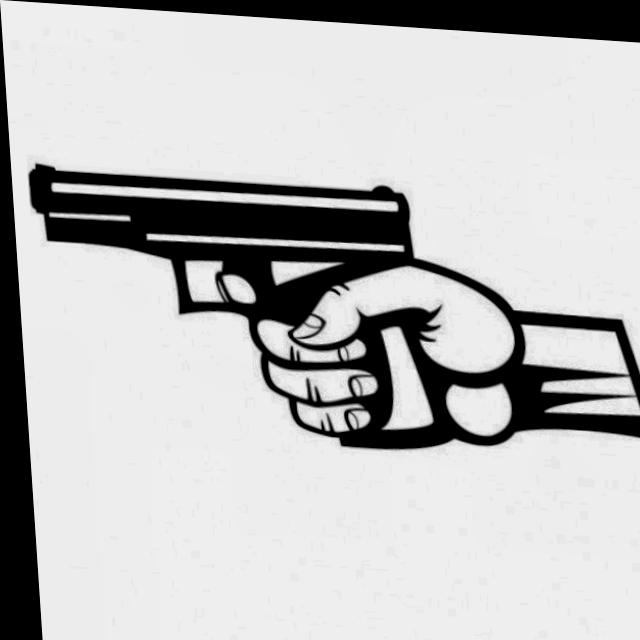pistol: (22, 156, 459, 454)
